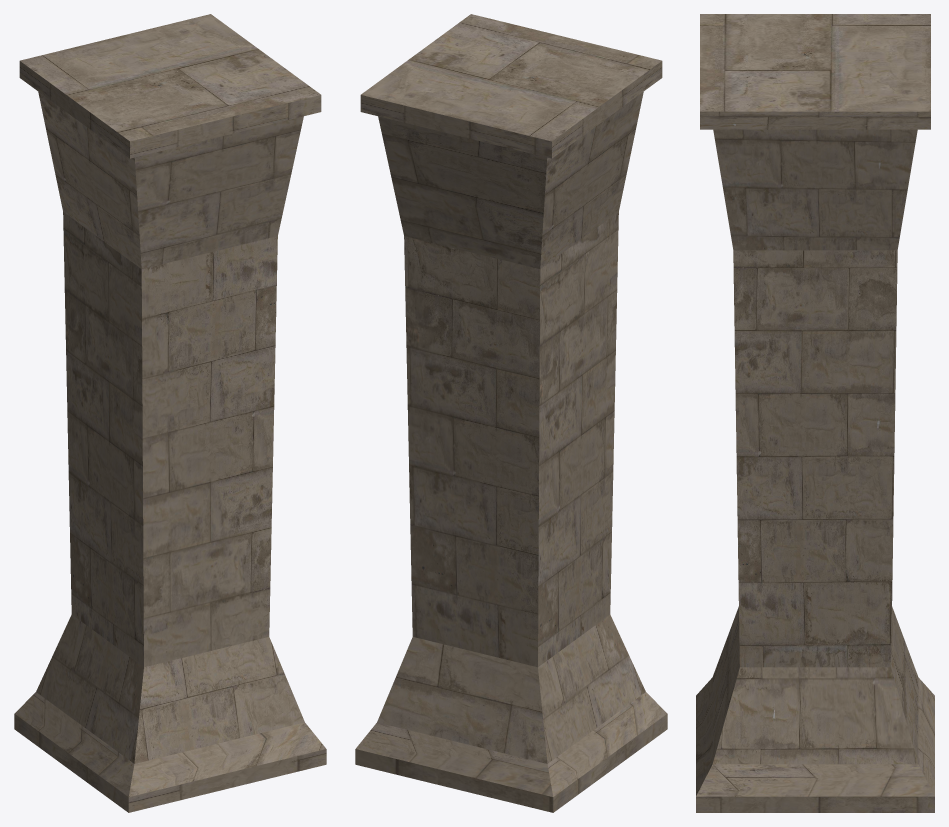
Rendered from pillar.glb.
3 views of the same model, side by side, from view 1: azimuth 30°, elevation 25°; view 2: azimuth 150°, elevation 25°; view 3: azimuth 270°, elevation 25° (orthographic). The views are drawn at different scales.
Visible parts, largest first — view 1: Cube; view 2: Cube; view 3: Cube.
Part boxes in pixels (box(x1,y1,x2,y2)): Cube: box(14, 14, 326, 812); Cube: box(355, 14, 667, 812); Cube: box(696, 14, 934, 812).
Bounding box in the file's own units: 1.52 × 4.93 × 1.52.
Materials: 1 (1 with a texture image).
